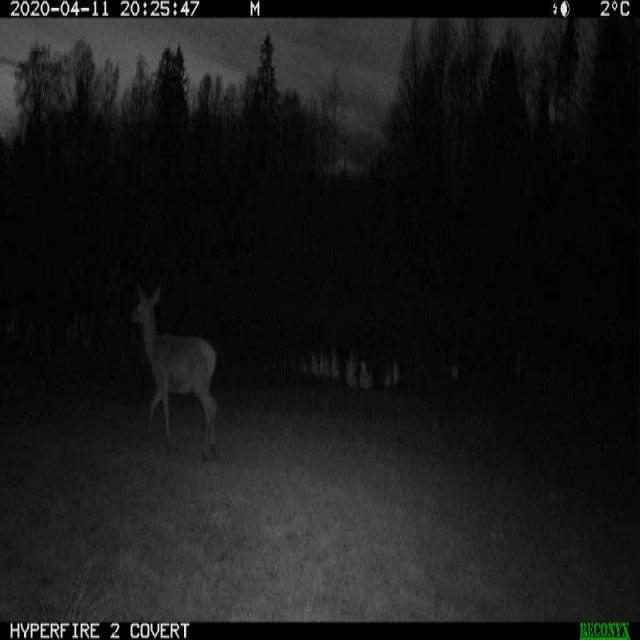deer: (125, 278, 221, 478)
